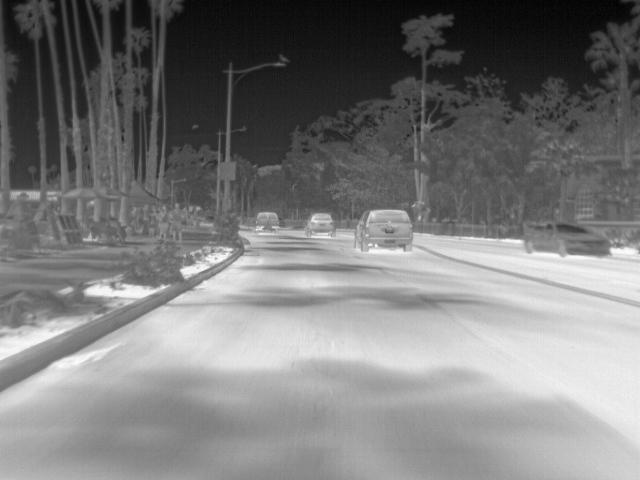car: (524, 218, 611, 260), (352, 208, 415, 254), (303, 211, 339, 237), (252, 209, 286, 235)
person: (169, 202, 186, 244), (158, 203, 170, 240)
